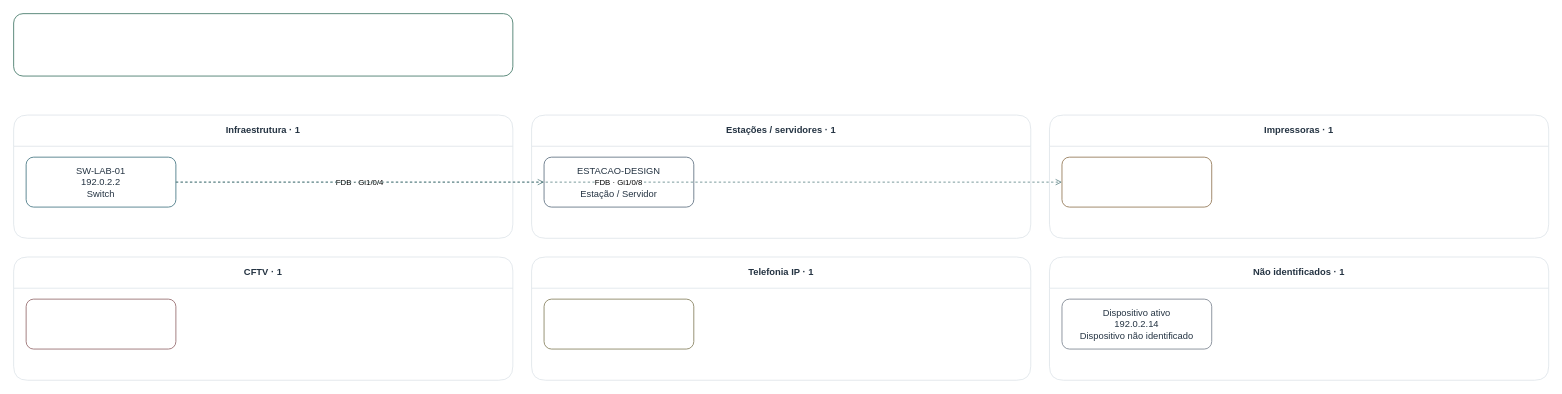
Some shapes in this 1562 by 394 pixel diagram are drawn without their labels. Each missing label, with the centre of its shape:
"CAMERA-ENTRADA 192.0.2.12 CFTV" belongs at point (100, 323).
"Gateway informado: 192.0.2.1 Referência da interface; sem ligação presumida" belongs at point (263, 44).
"IMPRESSORA-LAB 192.0.2.11 Impressora" belongs at point (1136, 181).
"TELEFONE-LAB 192.0.2.13 Telefonia IP" belongs at point (618, 323).
